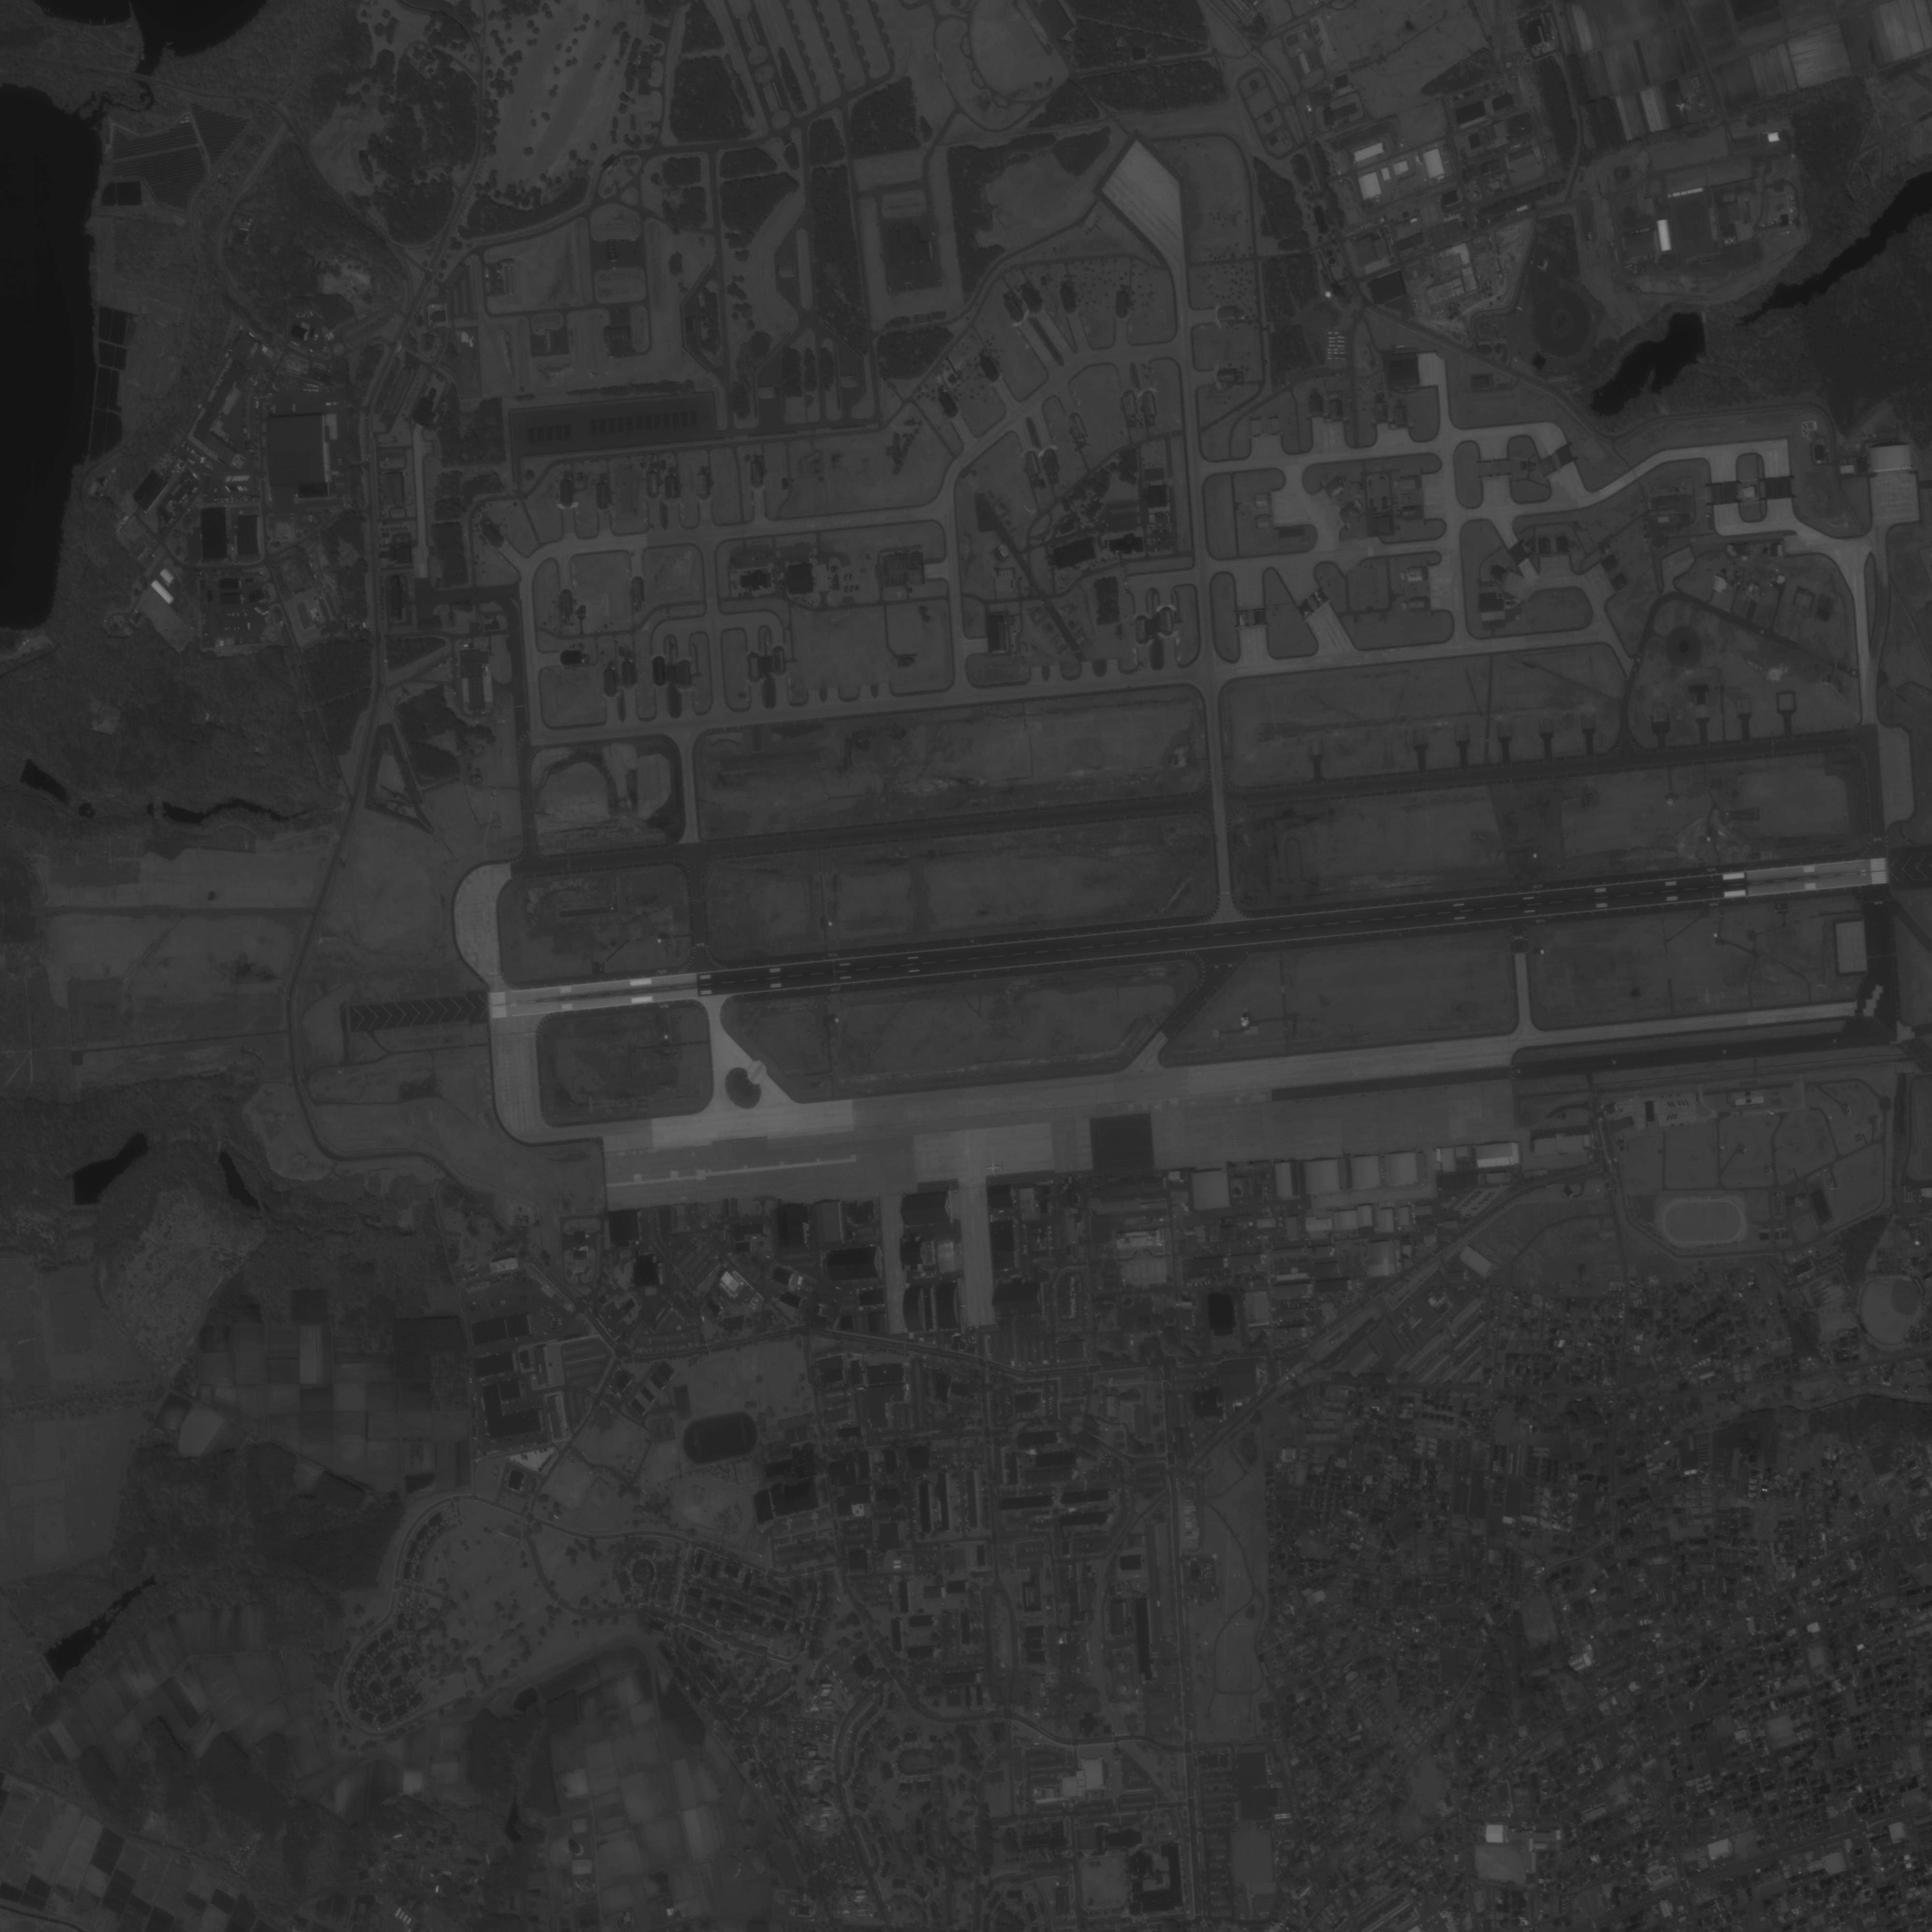plane: (984, 1155, 1005, 1178)
